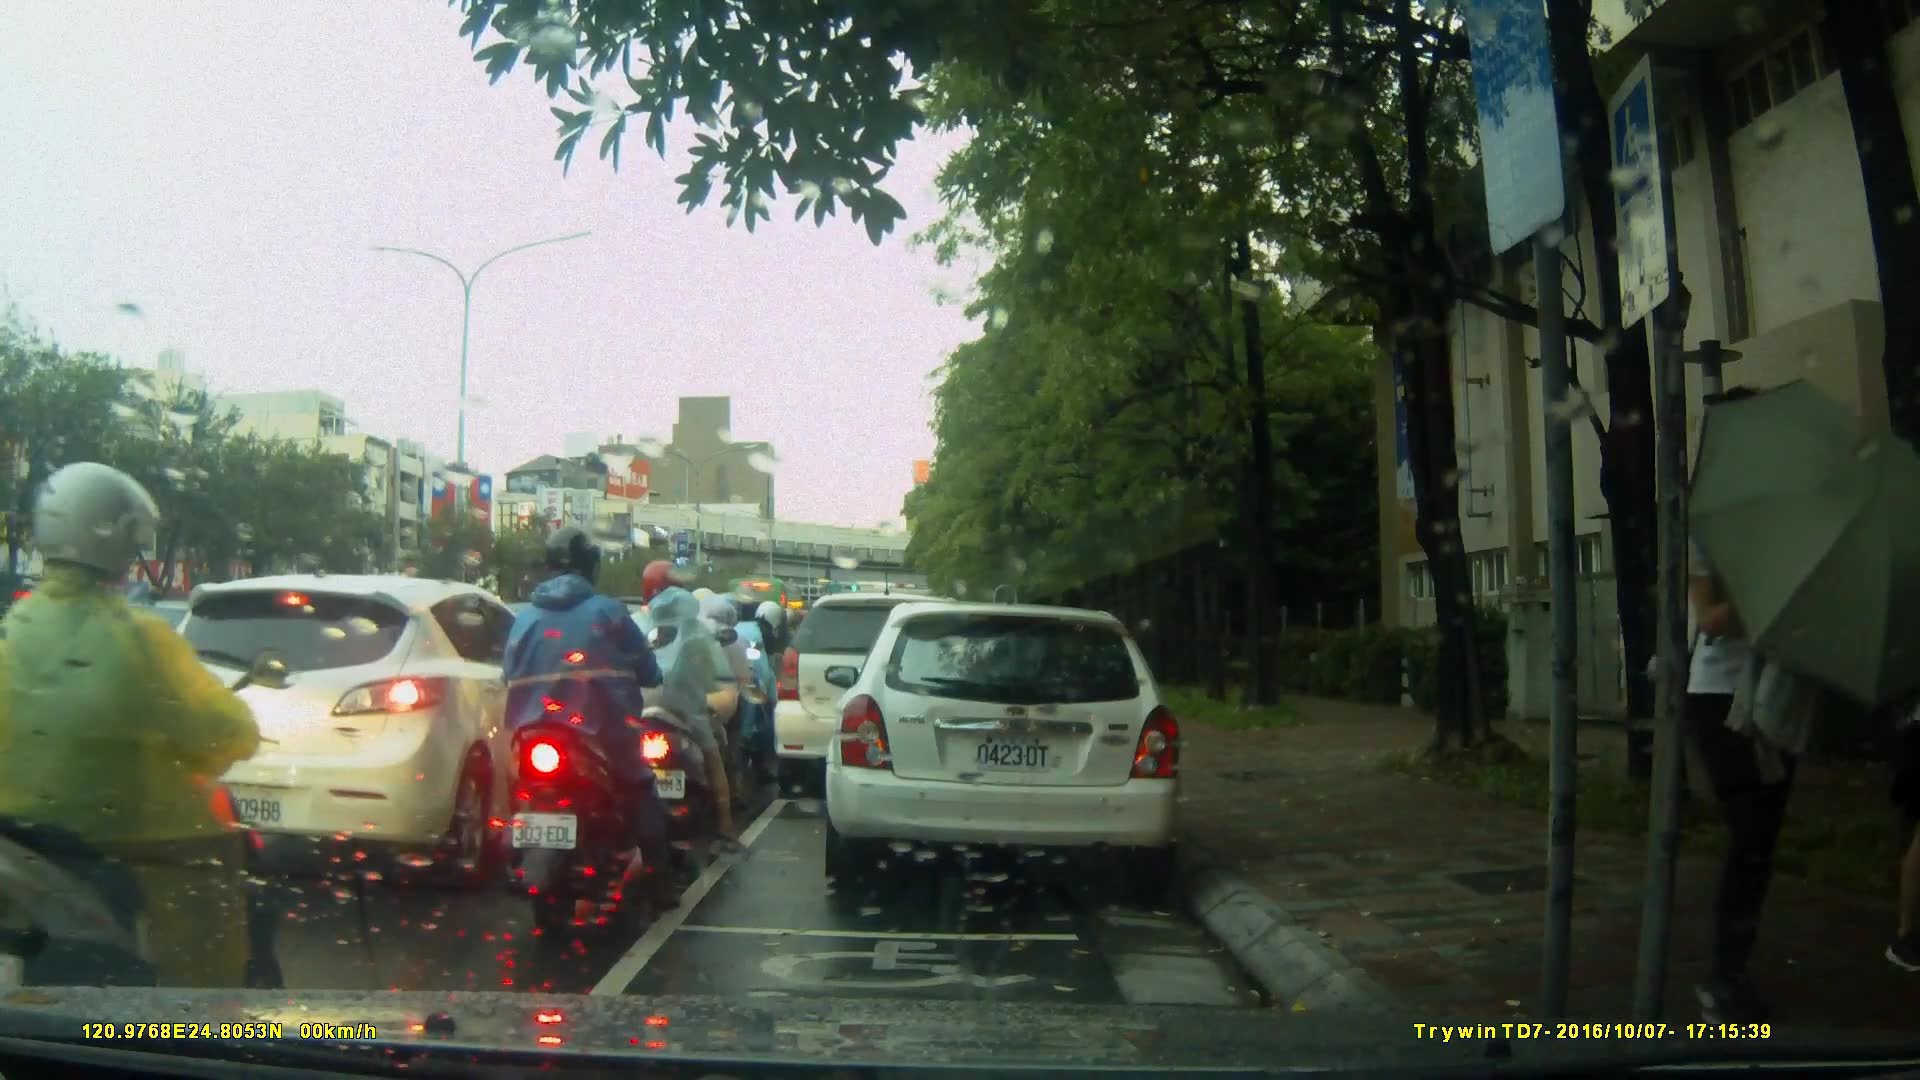pedestrian: (1658, 418, 1818, 1006)
rider: (1, 463, 307, 1077), (492, 524, 682, 927), (597, 560, 741, 861), (642, 581, 764, 823), (718, 594, 788, 767)
vehicle: (117, 571, 588, 883), (822, 604, 1188, 883), (774, 595, 995, 802), (42, 600, 283, 737)
